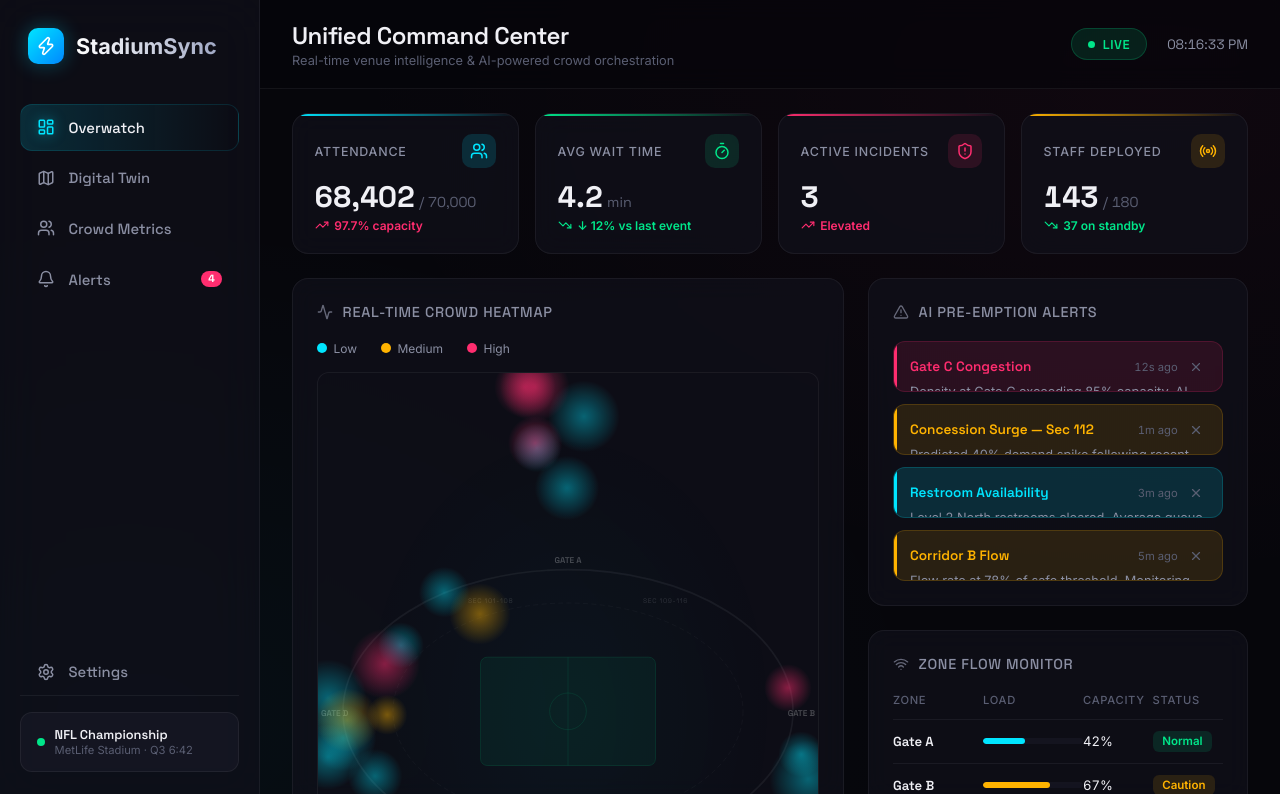
it: StadiumSync App › switches to Settings view and shows toggles
Click the button "Settings" at [82, 672], box [37, 662, 128, 681]
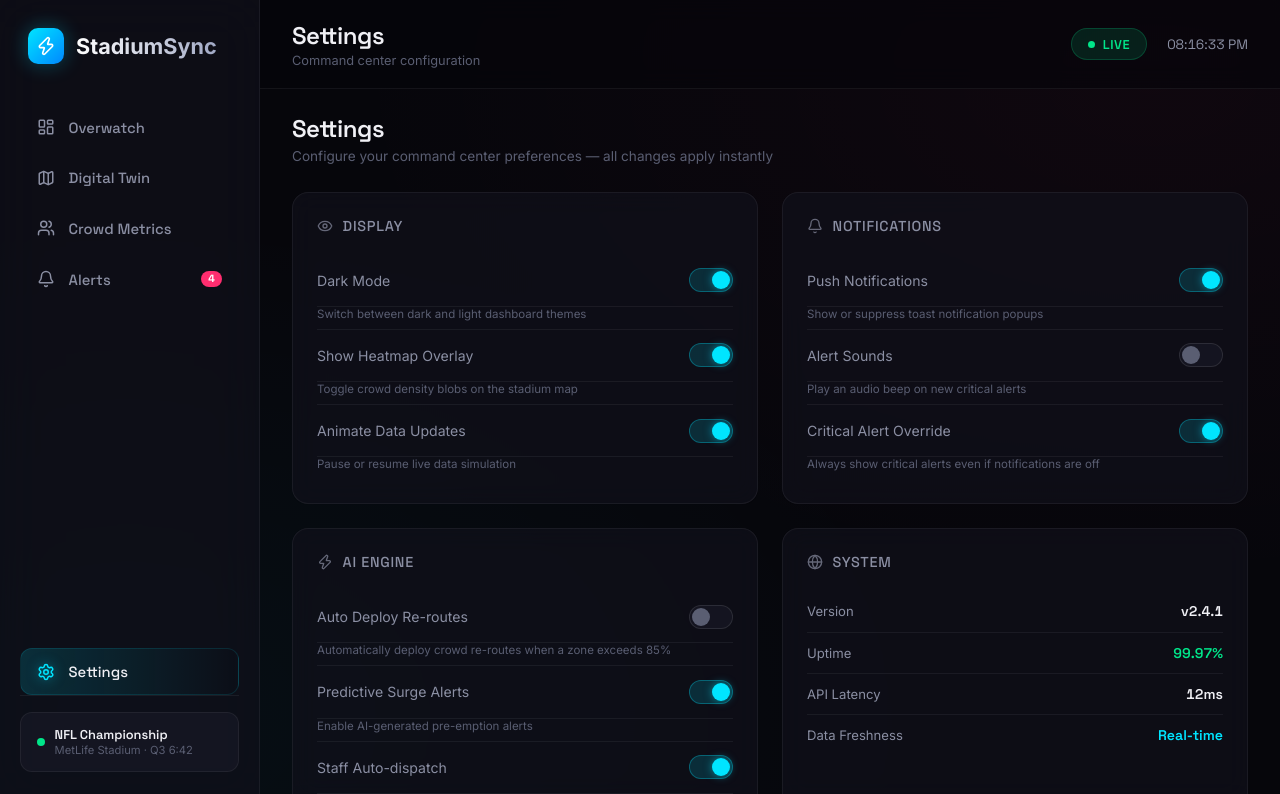
Now the text "Dark Mode" is shown, box [317, 272, 390, 289]
Now the text "Show Heatmap Overlay" is shown, box [317, 347, 473, 364]
Now the text "Animate Data Updates" is shown, box [317, 422, 466, 439]
